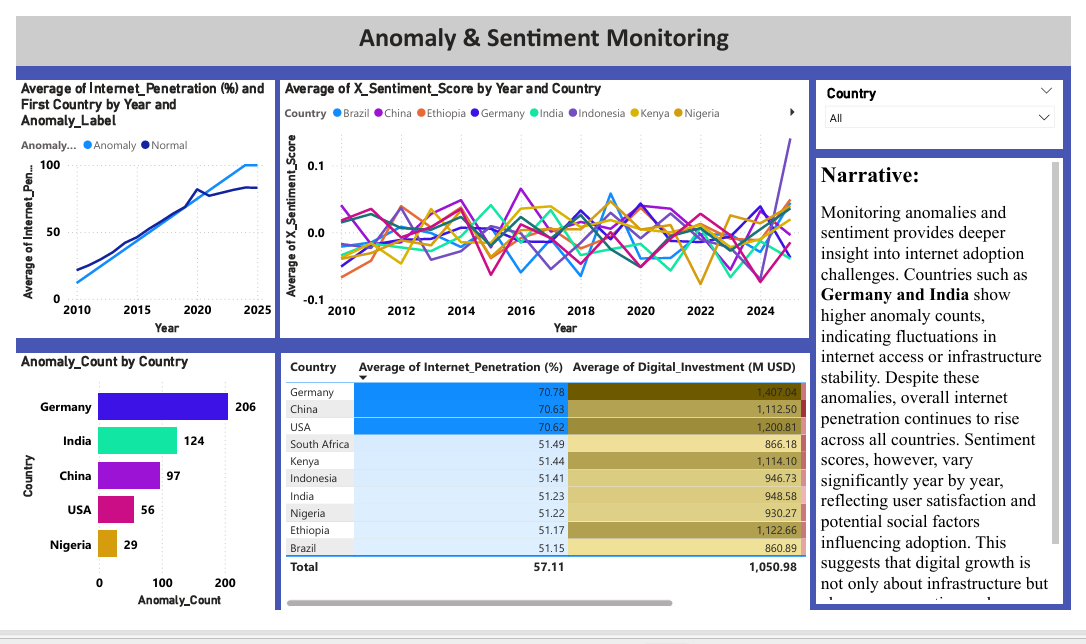

What the dashboard file says about the page in this screenshot:
{"tool":"powerbi","page":{"name":"Page 5","canvas":[1280,720],"ordinal":4},"visuals":[{"type":"lineChart","fields":{"Category":["global_internet_adoption_daily_2010_2025_with_clusters.Date.Variation.Date Hierarchy.Year","global_internet_adoption_daily_2010_2025_with_clusters.Date.Variation.Date Hierarchy.Quarter","global_internet_adoption_daily_2010_2025_with_clusters.Date.Variation.Date Hierarchy.Month","global_internet_adoption_daily_2010_2025_with_clusters.Date.Variation.Date Hierarchy.Day"],"Y":["Avg(global_internet_adoption_daily_2010_2025_with_clusters.Internet_Penetration (%))"],"Series":["global_internet_adoption_daily_2010_2025_with_clusters.Anomaly_Label"]},"box":[0,76.8,314.2,313],"z":0},{"type":"barChart","fields":{"Category":["global_internet_adoption_daily_2010_2025_with_clusters.Country"],"Y":["All Measures.Anomaly_Count"]},"box":[0,407.5,314.2,313],"z":1000},{"type":"lineChart","fields":{"Category":["global_internet_adoption_daily_2010_2025_with_clusters.Date.Variation.Date Hierarchy.Year","global_internet_adoption_daily_2010_2025_with_clusters.Date.Variation.Date Hierarchy.Quarter","global_internet_adoption_daily_2010_2025_with_clusters.Date.Variation.Date Hierarchy.Month","global_internet_adoption_daily_2010_2025_with_clusters.Date.Variation.Date Hierarchy.Day"],"Y":["Avg(global_internet_adoption_daily_2010_2025_with_clusters.X_Sentiment_Score)"],"Series":["global_internet_adoption_daily_2010_2025_with_clusters.Country"]},"box":[319.7,76.8,640.8,313],"z":2000},{"type":"tableEx","fields":{"Values":["global_internet_adoption_daily_2010_2025_with_clusters.Country","Avg(global_internet_adoption_daily_2010_2025_with_clusters.Internet_Penetration (%))","Avg(global_internet_adoption_daily_2010_2025_with_clusters.Digital_Investment (M USD))","Avg(global_internet_adoption_daily_2010_2025_with_clusters.X_Sentiment_Score)"]},"box":[321.1,407.5,640.8,313],"z":3000},{"type":"slicer","fields":{"Values":["global_internet_adoption_daily_2010_2025_with_clusters.Country"]},"box":[970.6,77.3,299.4,82.2],"z":4000},{"type":"textbox","box":[0,0,1280.3,60.4],"z":5000},{"type":"textbox","box":[970.6,171.8,299.4,539.9],"z":5001}]}

Visuals, with their boxes on the page's 1280x720 design canvas (x1, y1, x2, y2). These are canvas units, not pixel positions in the 1086x644 screenshot, which may show the page scaled, cropped or inside an application window:
lineChart - global_internet_adoption_daily_2010_2025_with_clusters.Date.Variation.Date Hierarchy.Year x global_internet_adoption_daily_2010_2025_with_clusters.Date.Variation.Date Hierarchy.Quarter: select_region(0, 77, 314, 390)
barChart - global_internet_adoption_daily_2010_2025_with_clusters.Country x All Measures.Anomaly_Count: select_region(0, 408, 314, 720)
lineChart - global_internet_adoption_daily_2010_2025_with_clusters.Date.Variation.Date Hierarchy.Year x global_internet_adoption_daily_2010_2025_with_clusters.Date.Variation.Date Hierarchy.Quarter: select_region(320, 77, 960, 390)
tableEx - global_internet_adoption_daily_2010_2025_with_clusters.Country x Avg(global_internet_adoption_daily_2010_2025_with_clusters.Internet_Penetration (%)): select_region(321, 408, 962, 720)
slicer - global_internet_adoption_daily_2010_2025_with_clusters.Country: select_region(971, 77, 1270, 160)
textbox: select_region(0, 0, 1280, 60)
textbox: select_region(971, 172, 1270, 712)
